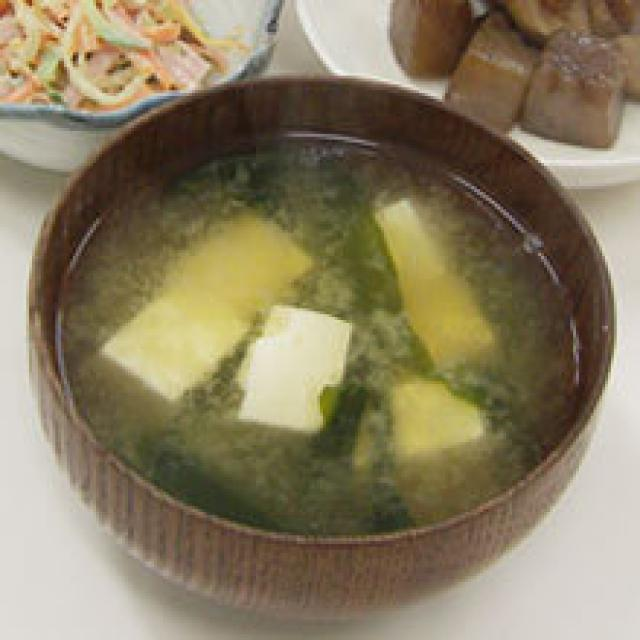汤锅炖物: (14, 67, 614, 622)
